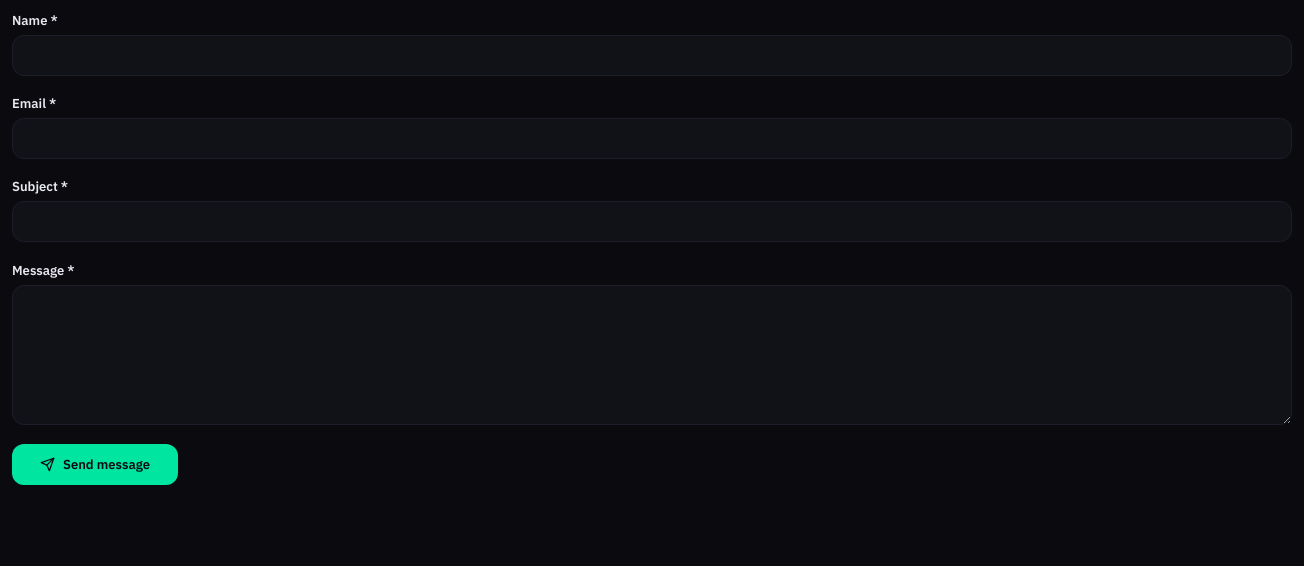
Contact Form — Submission › shows error message when action returns an error state
Type "Jane Doe" into the field labelled "Name *" at (652, 56), box 12,35 -> 1292,76
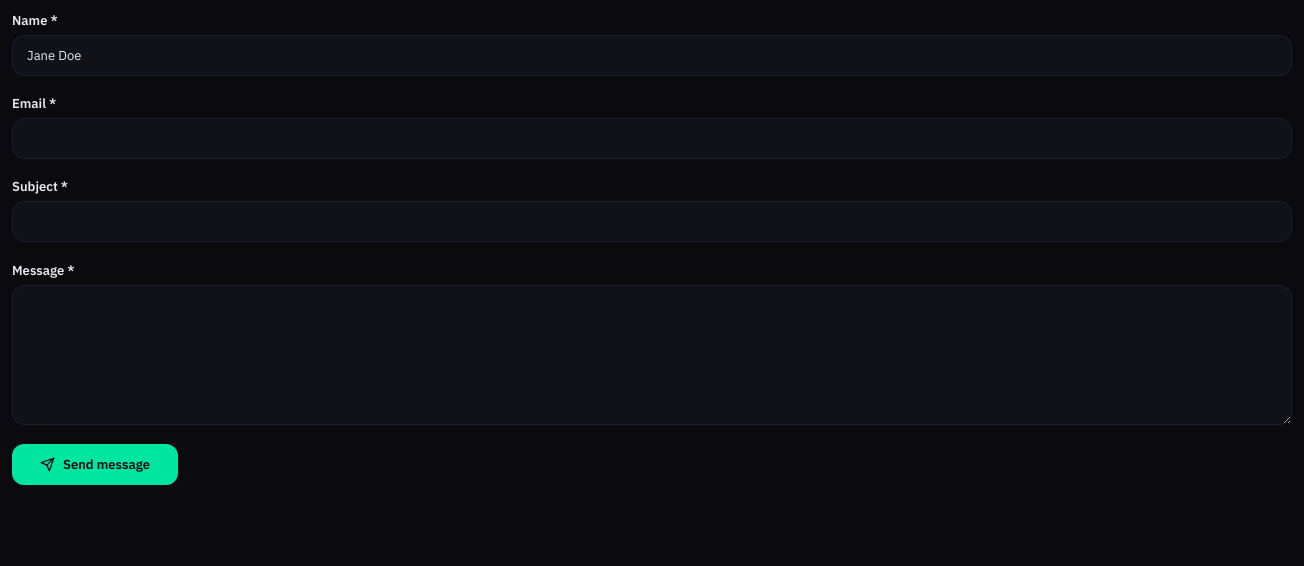
Type "jane@example.com" into the field labelled "Email *" at (652, 139), box 12,118 -> 1292,159
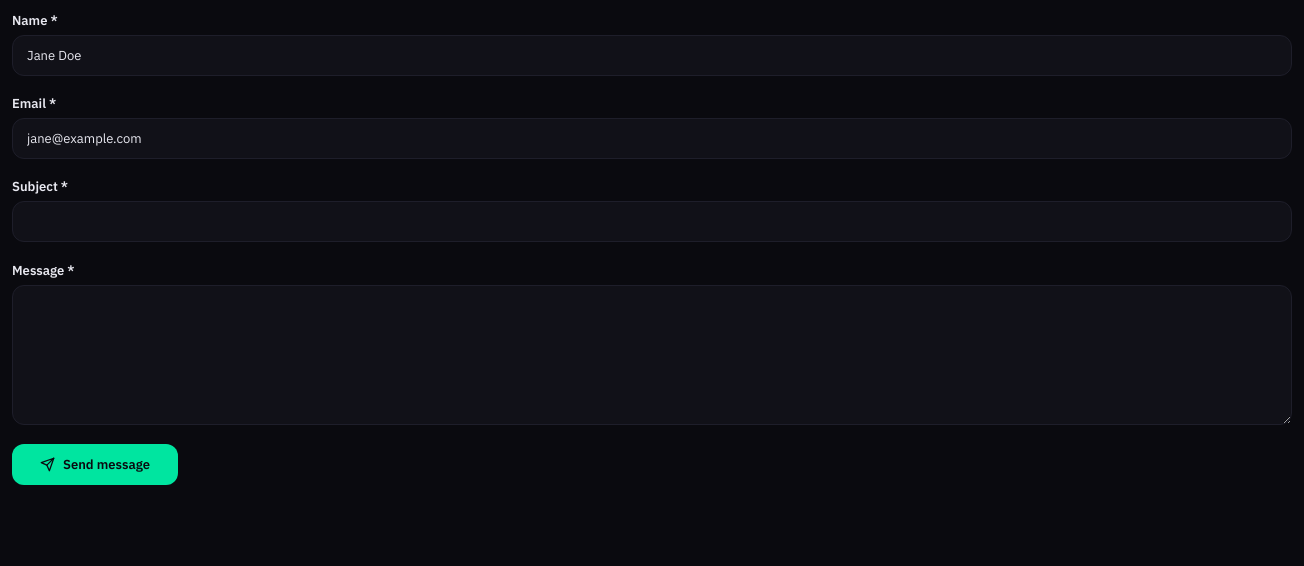
Type "Test Subject" into the field labelled "Subject *" at (652, 222), box 12,201 -> 1292,242
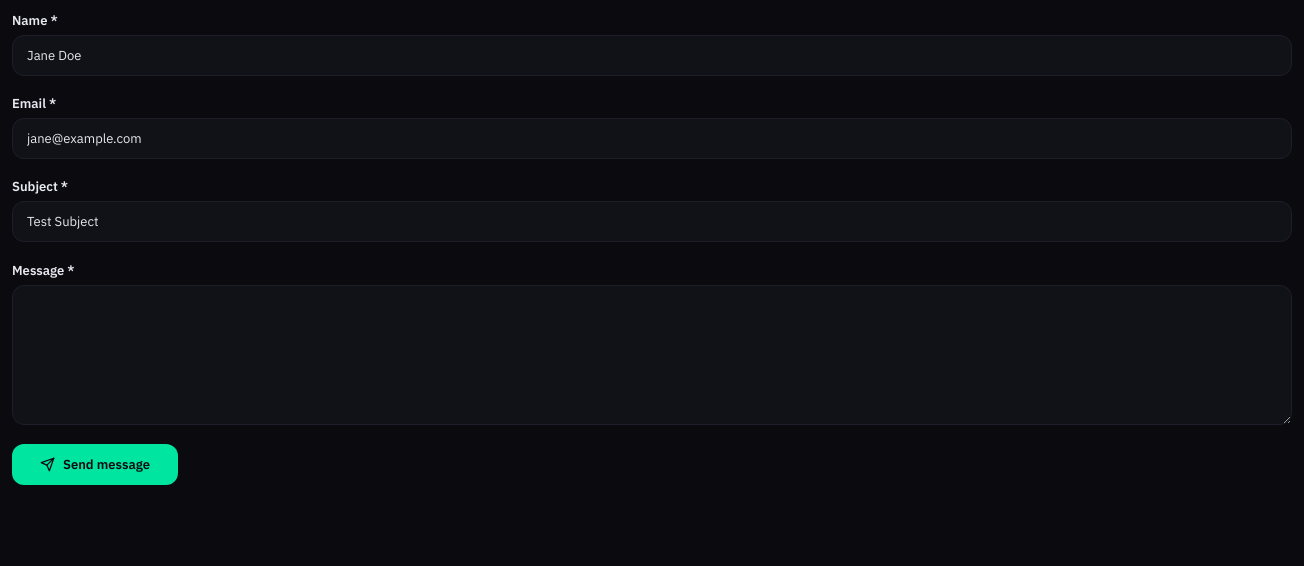
Type "Hello, this is a test message." into the text box labelled "Message *" at (652, 355), box 12,285 -> 1292,425
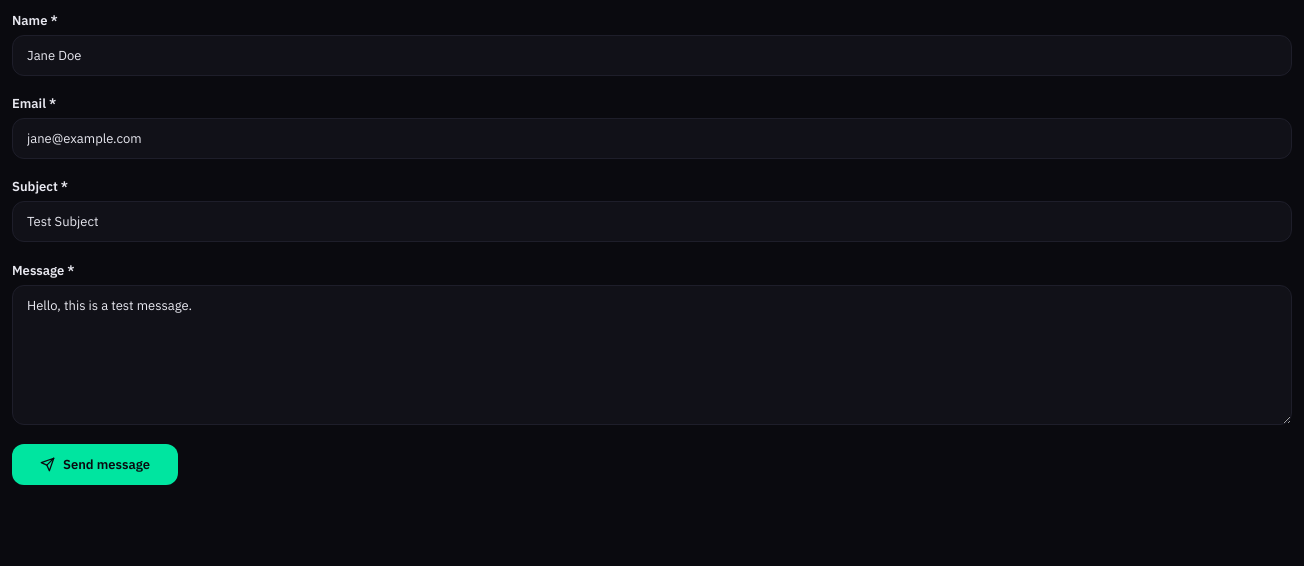
Click the button "Send message" at (95, 464), box 12,444 -> 178,485
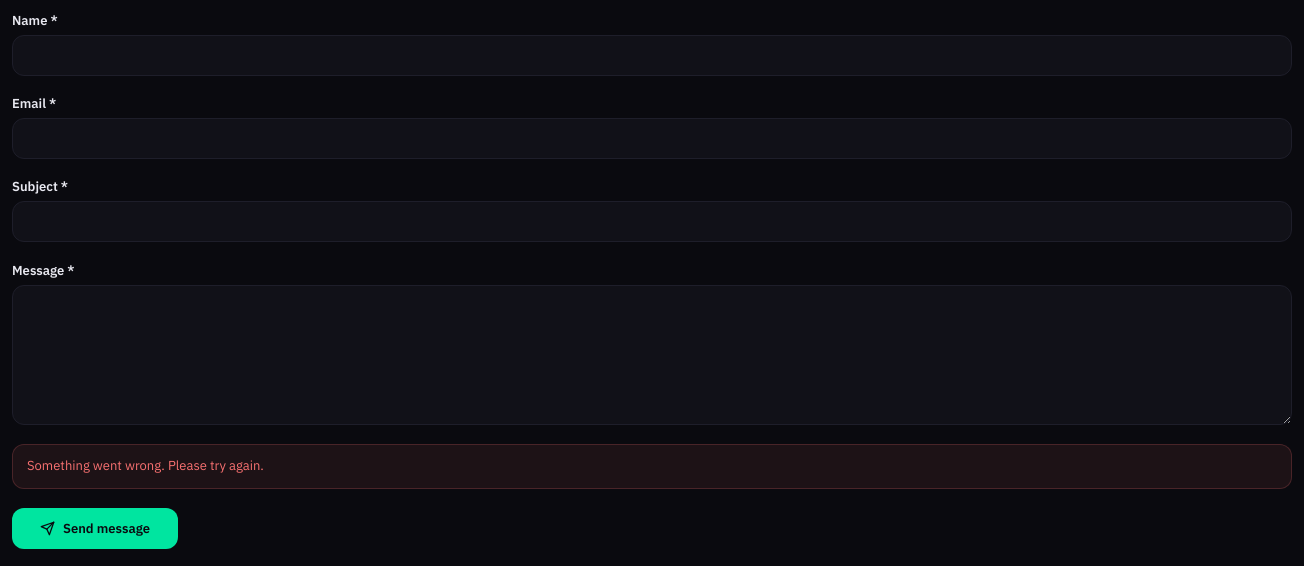
Now the text "Something went wrong. Please try again." is shown, box 12,444 -> 1292,489
